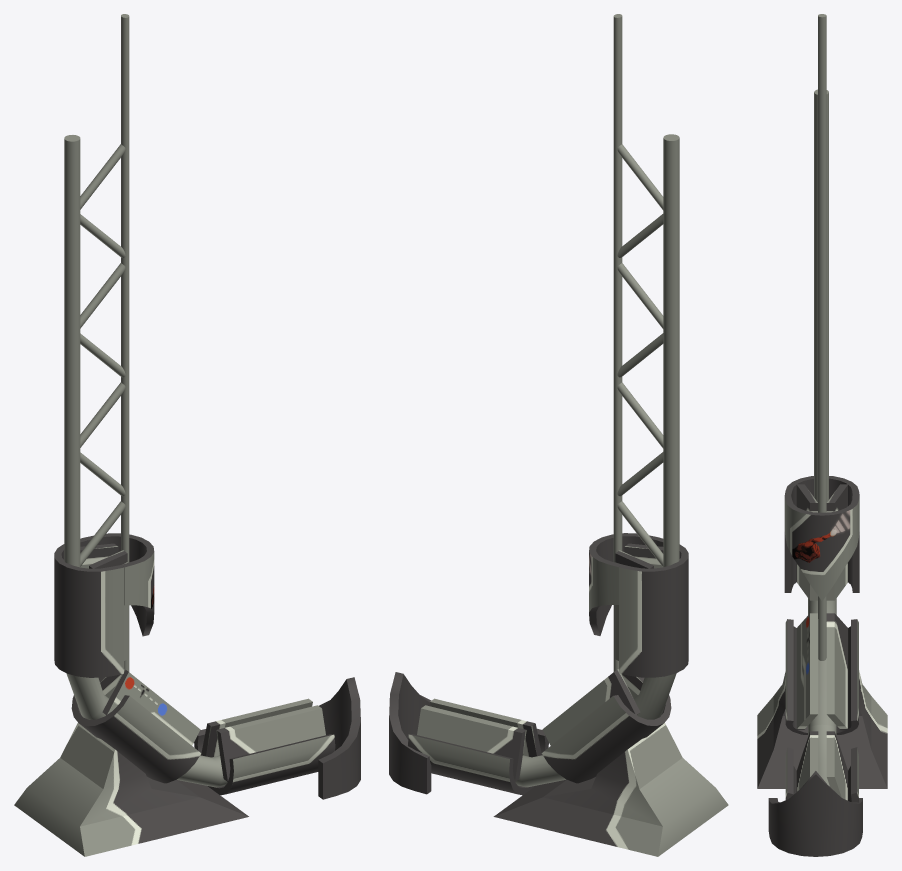
Rendered from coms.fbx.
3 views of the same model, side by side, from view 1: azimuth 30°, elevation 25°; view 2: azimuth 150°, elevation 25°; view 3: azimuth 270°, elevation 25° (orthographic). The views are drawn at different scales.
Visible parts, largest first — view 1: pCube13; view 2: pCube13; view 3: pCube13.
Boxes of the visible parts, <box> form: pCube13: <box>14,14,360,856</box>; pCube13: <box>389,14,728,856</box>; pCube13: <box>757,14,887,856</box>.
Size of the model in its own units: 23.79 by 60.6 by 9.68.
